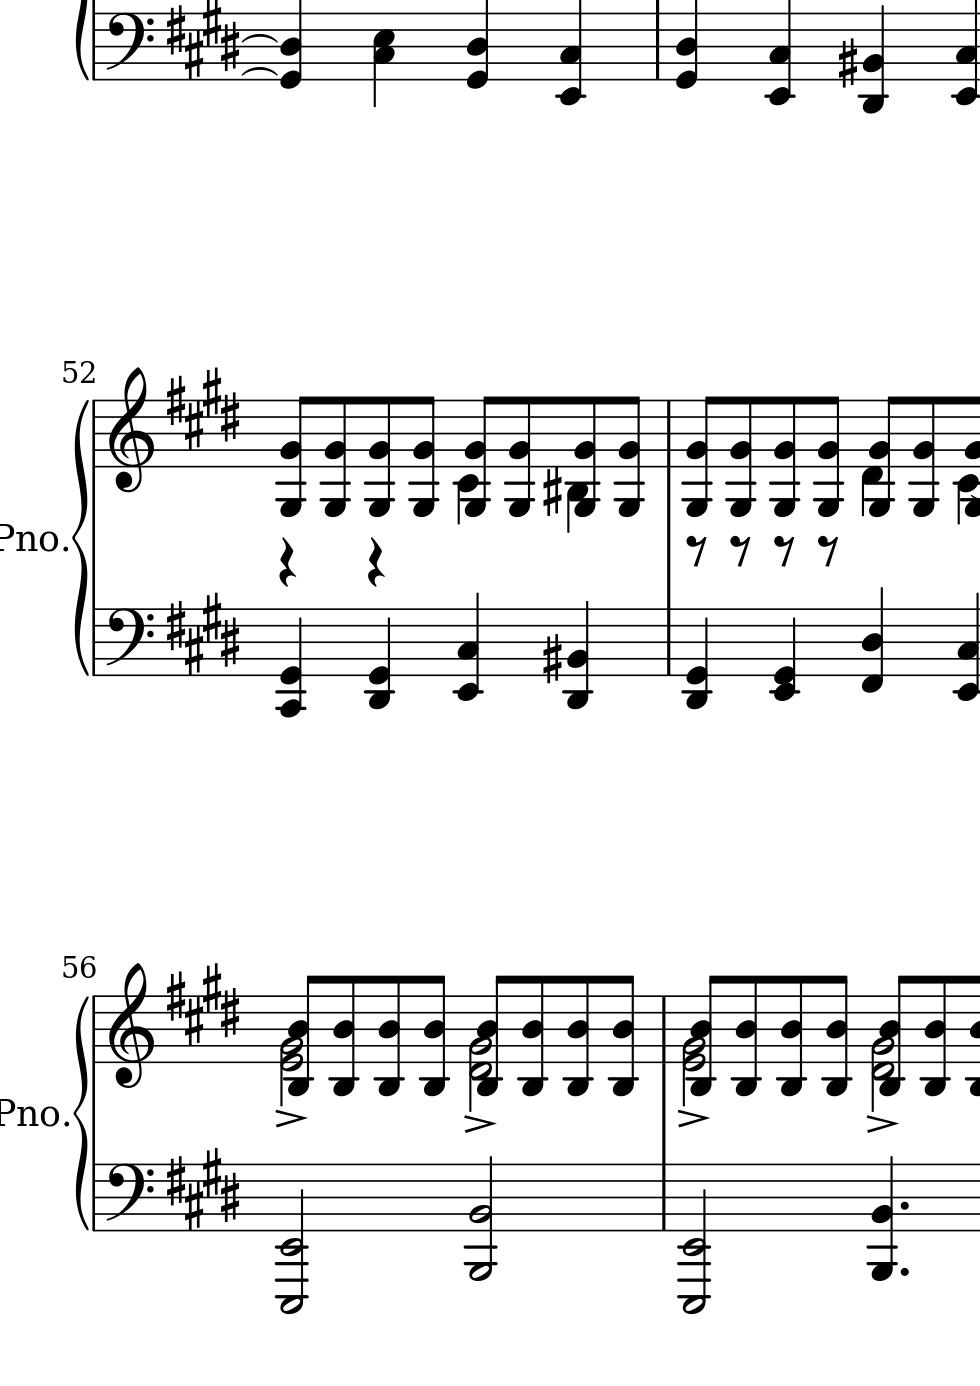2: (78, 358, 97, 385)
2_-5_2: (463, 1156, 500, 1281)
2_-9_-2: (275, 1163, 310, 1316), (677, 1162, 711, 1317)
4_-1_4: (859, 586, 886, 694)
4_-2_0: (766, 607, 801, 701)
4_-2_3: (450, 593, 489, 701), (553, 1, 585, 108), (765, 2, 797, 107), (949, 1, 980, 109), (952, 591, 980, 701)
4_-3_0: (361, 609, 397, 710), (681, 607, 715, 710)
4_-3_2: (562, 600, 596, 710), (858, 1, 888, 117)
4_-3_4: (329, 975, 361, 1096), (417, 975, 449, 1096), (372, 973, 404, 1094), (607, 973, 637, 1095), (731, 973, 762, 1095), (920, 975, 950, 1096), (515, 975, 545, 1096), (564, 973, 594, 1095), (777, 973, 807, 1095), (822, 973, 852, 1095)
4_-4_0: (273, 606, 310, 718)
4_-5_2: (865, 1156, 902, 1281)
4_0_4: (278, 1, 305, 91), (673, 1, 700, 91), (466, 1, 492, 89)
4_3_5: (373, 10, 397, 109)
5: (60, 356, 77, 385), (62, 952, 78, 980)
6: (78, 952, 97, 980)
8_-5_2: (681, 391, 721, 516), (275, 394, 315, 519), (361, 394, 392, 517), (501, 394, 532, 517), (570, 393, 601, 516), (321, 394, 352, 517), (724, 392, 755, 515), (767, 394, 798, 517), (812, 396, 843, 519), (907, 394, 938, 517), (611, 393, 642, 516), (408, 394, 439, 517)
Accent_above: (460, 1113, 497, 1135), (675, 1108, 710, 1130), (272, 1108, 308, 1129), (864, 1115, 900, 1134)
B_S: (164, 591, 242, 677), (167, 1, 241, 82)
Brace: (70, 399, 90, 676), (72, 994, 90, 1235), (73, 1, 91, 82)
E_S: (164, 1146, 242, 1231), (164, 368, 241, 452), (164, 963, 241, 1046)
Fclef: (103, 607, 155, 680), (103, 1162, 154, 1235), (103, 11, 154, 83)
Gclef: (106, 365, 155, 495), (107, 962, 154, 1090)
Pno: (1, 520, 59, 557), (1, 1095, 60, 1131)
Rests4: (276, 536, 297, 590), (365, 537, 385, 589)
Rests8: (727, 533, 752, 567), (684, 533, 708, 568), (771, 533, 795, 567), (815, 534, 839, 567)
Sharp: (835, 36, 859, 91), (540, 631, 563, 686), (540, 466, 563, 520)
Single_barline: (649, 12, 667, 80), (660, 609, 677, 676), (655, 1164, 672, 1231), (661, 399, 677, 468), (657, 996, 672, 1063), (88, 400, 102, 468), (88, 608, 102, 676), (88, 1163, 102, 1231), (88, 996, 102, 1063), (88, 14, 102, 80)
Slur: (240, 67, 277, 78), (239, 33, 278, 43)
dot: (898, 1265, 911, 1280), (898, 1199, 911, 1212)
